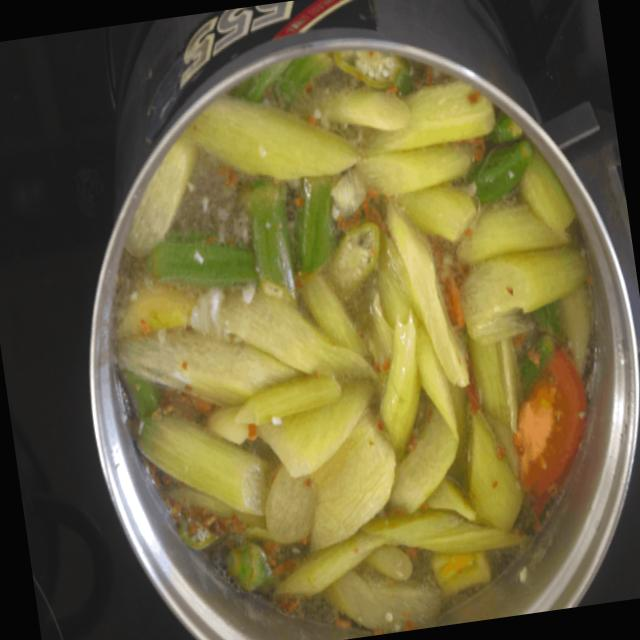canh chua: (110, 49, 597, 636)
